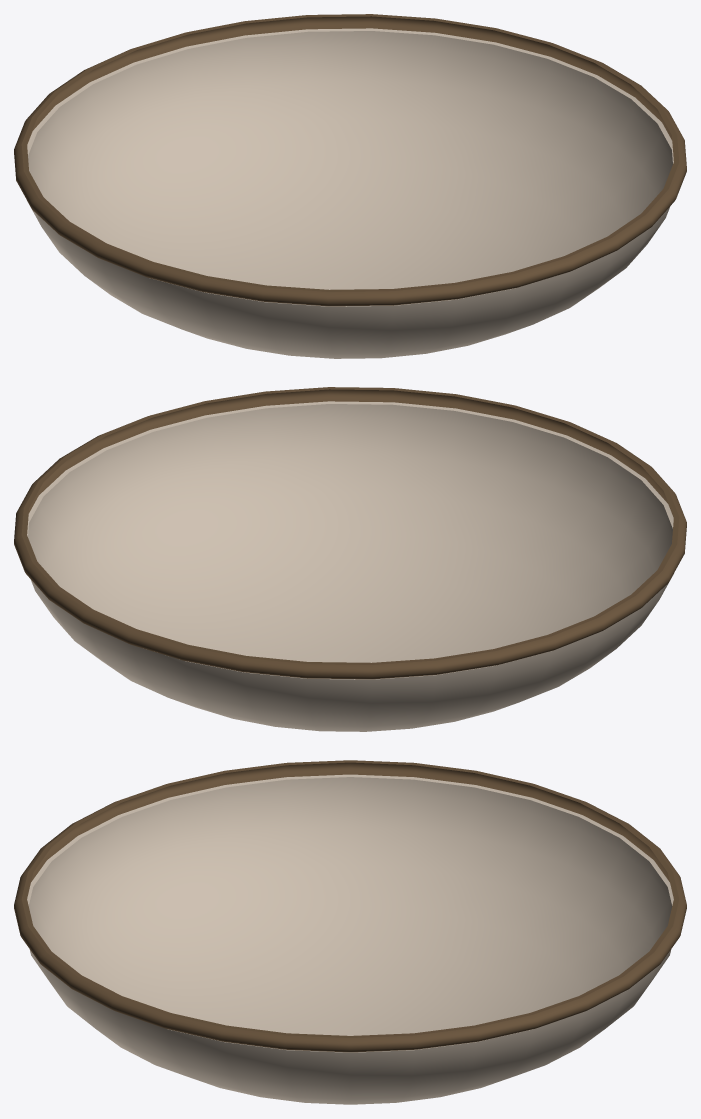
Rendered from Light.fbx.
3 views of the same model, one above another, from view 1: azimuth 30°, elevation 25°; view 2: azimuth 150°, elevation 25°; view 3: azimuth 270°, elevation 25° (orthographic).
Parts seen in each view (by area): view 1: Light 1; view 2: Light 1; view 3: Light 1.
Boxes of the visible parts, box(x1,y1,x2,y2) form: Light 1: box(14, 14, 686, 358); Light 1: box(14, 387, 686, 731); Light 1: box(14, 760, 686, 1104).
Bounding box in the file's own units: 56.75 × 15.22 × 56.75.
